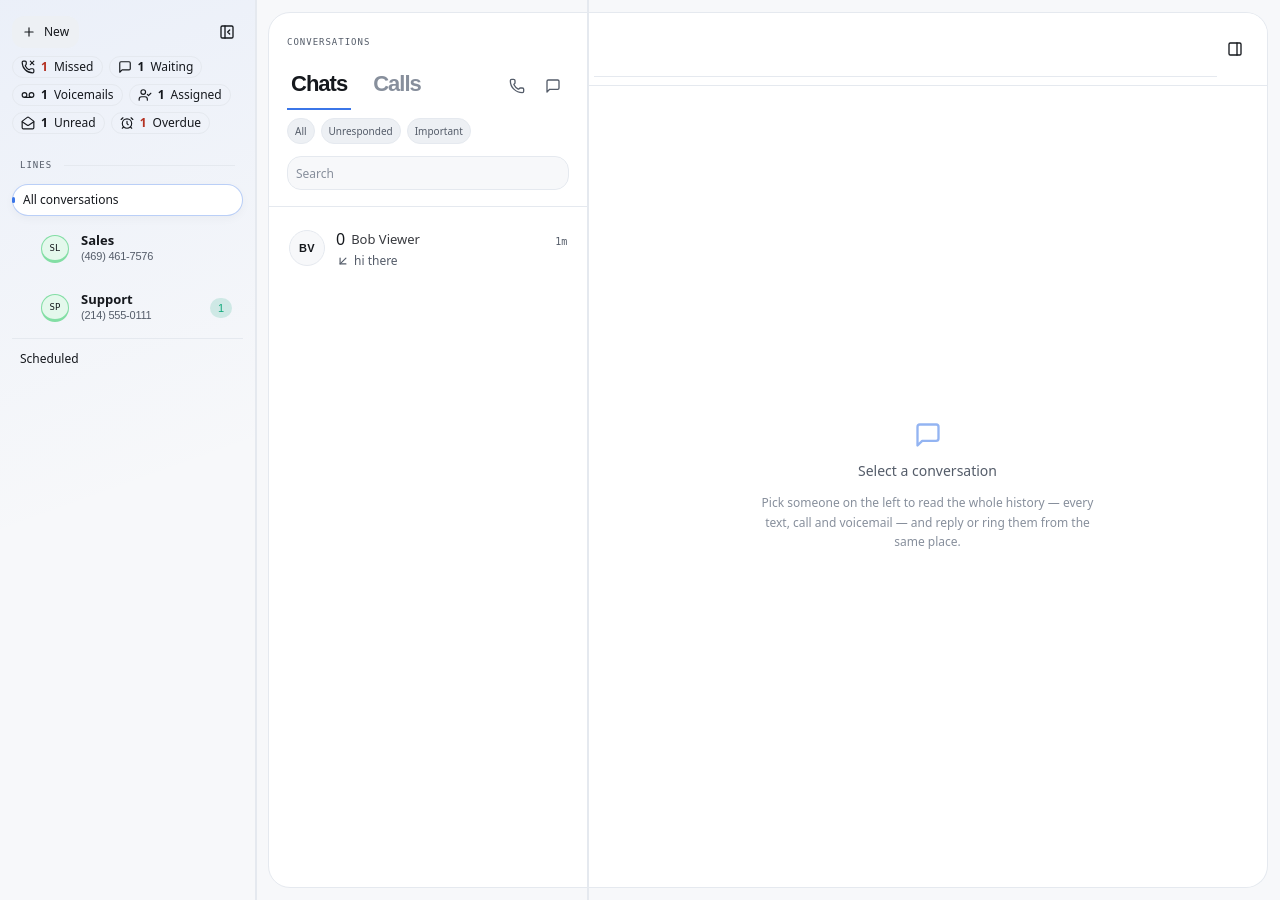
Test: ConversationsPage › ?inbox=all: composer stays disabled for a conversation whose own inbox is viewer-role, even when that inbox isn't inboxes[0]
Step 1. Click the button "BV 0 Bob Viewer 1m hi there" → x=307, y=248, box [279,211,577,286]
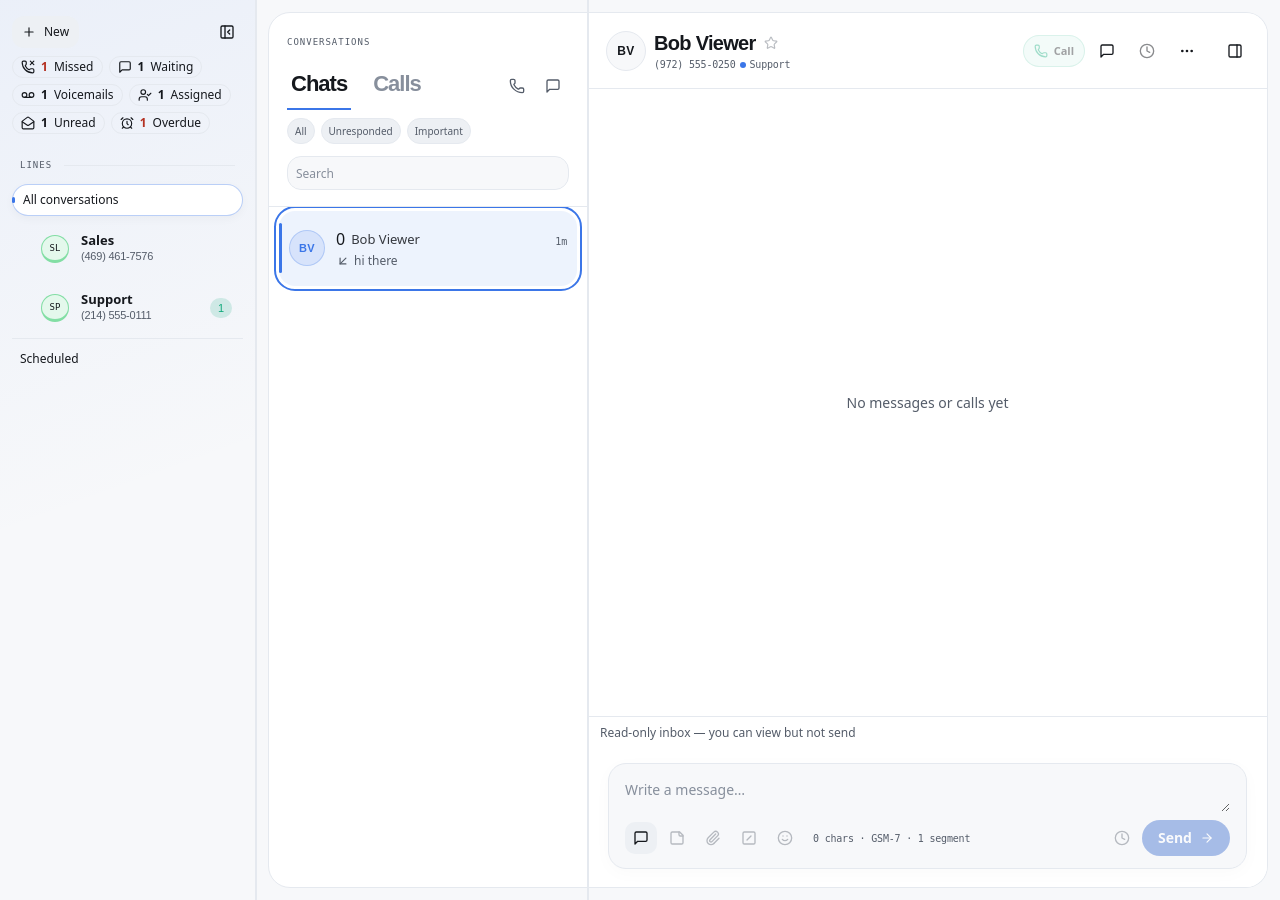
Result: the text "Read-only inbox — you can view but not send" is shown at [588,716,1267,741]
Result: the text box labelled "message" is disabled at [625,776,1230,812]
